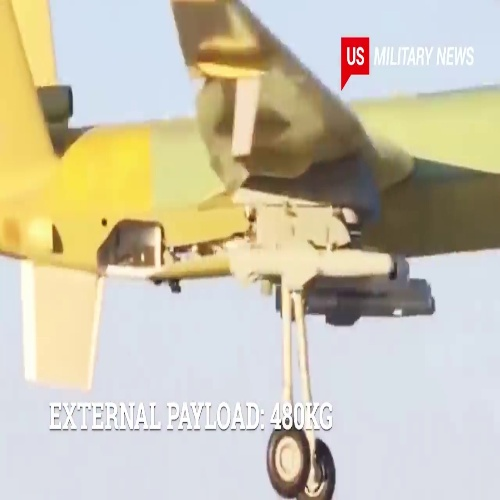uav: (1, 1, 499, 500)
